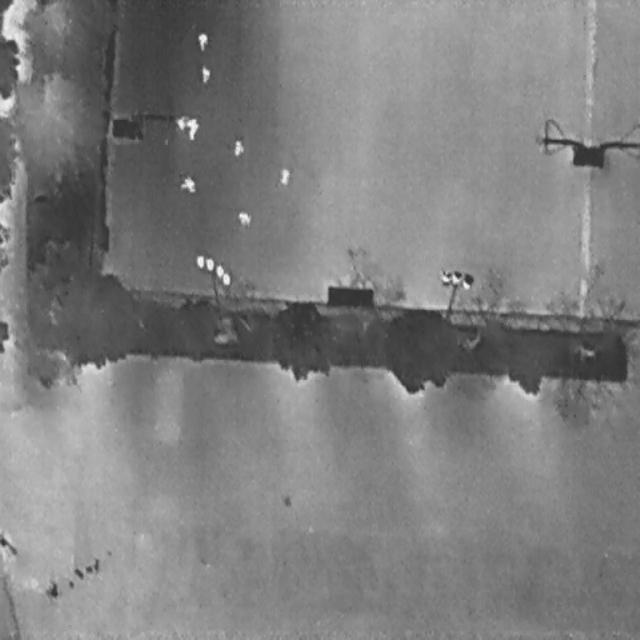Person: (175, 169, 198, 200), (275, 162, 291, 188), (184, 114, 198, 141), (236, 208, 251, 226), (232, 136, 244, 156), (197, 31, 207, 50), (200, 65, 209, 84), (173, 115, 185, 129)
